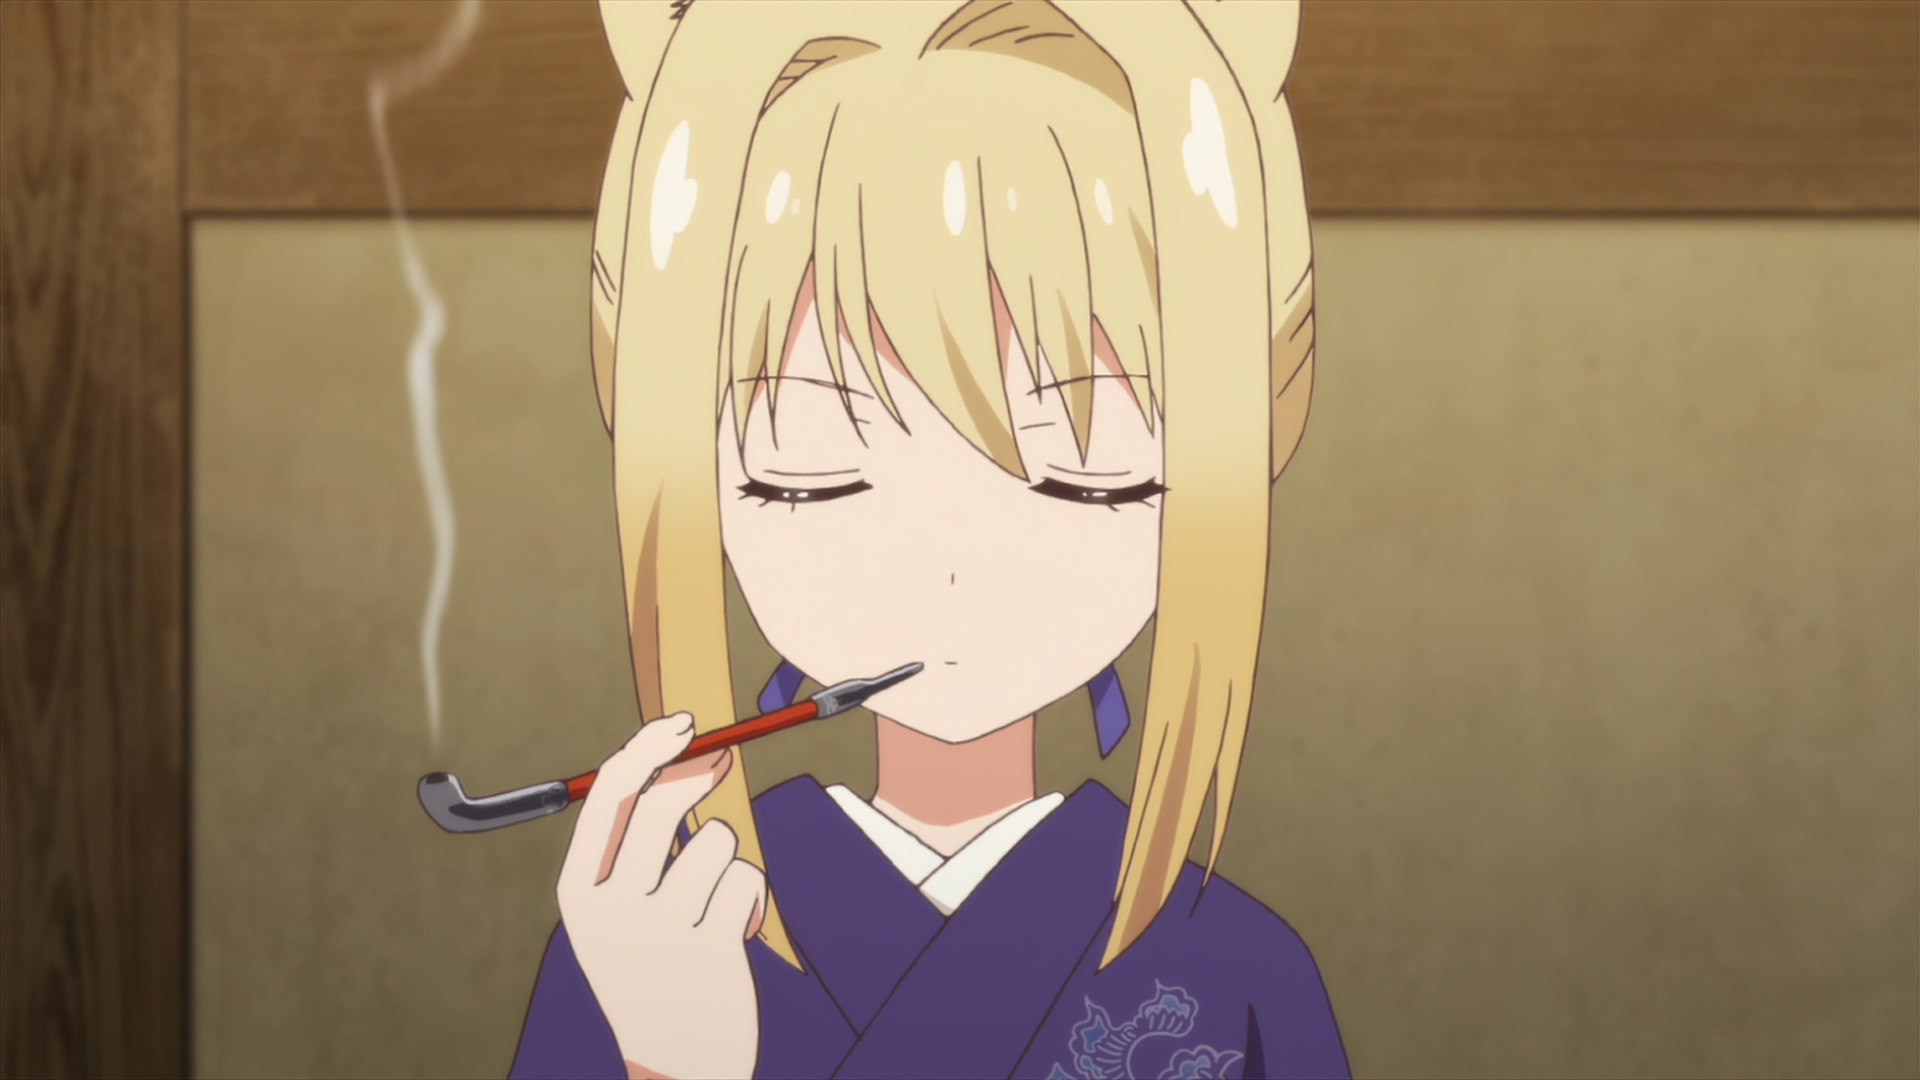桐: (510, 1, 1350, 1080)
